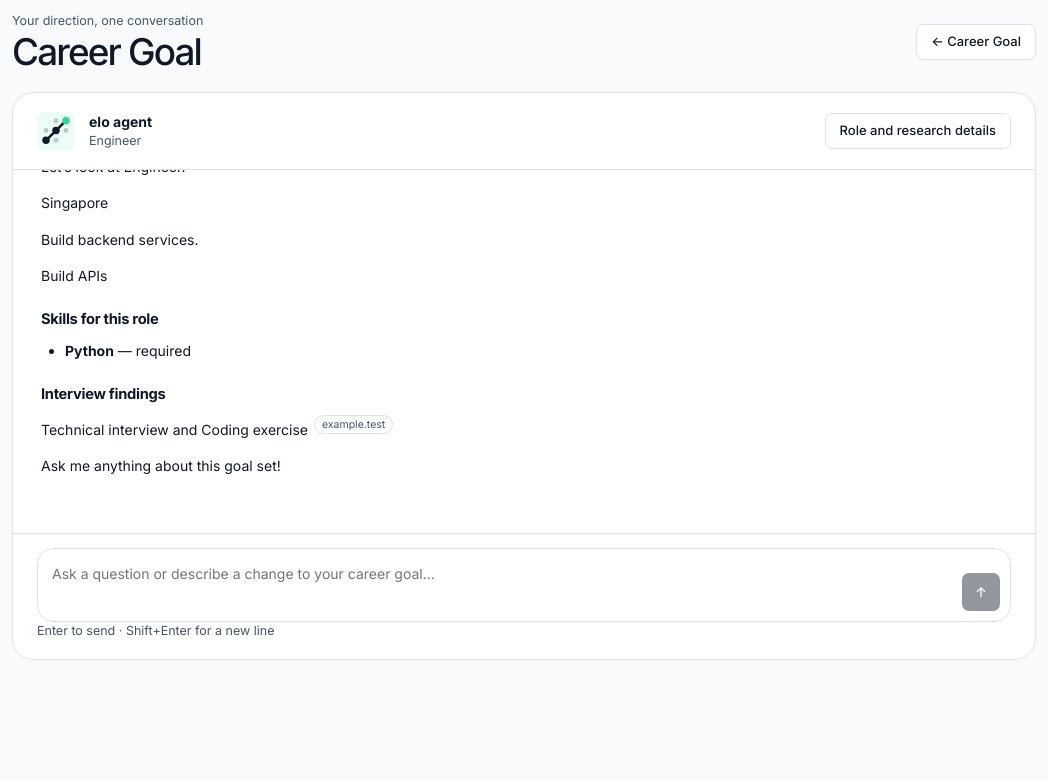
Test: single career conversation › edits the career goal through guided chat and refreshes the saved summary without an edit form
(page scrolled)
Type "Change my goal" into the text box named "Message elo" at (500, 585), box [48, 558, 952, 611]
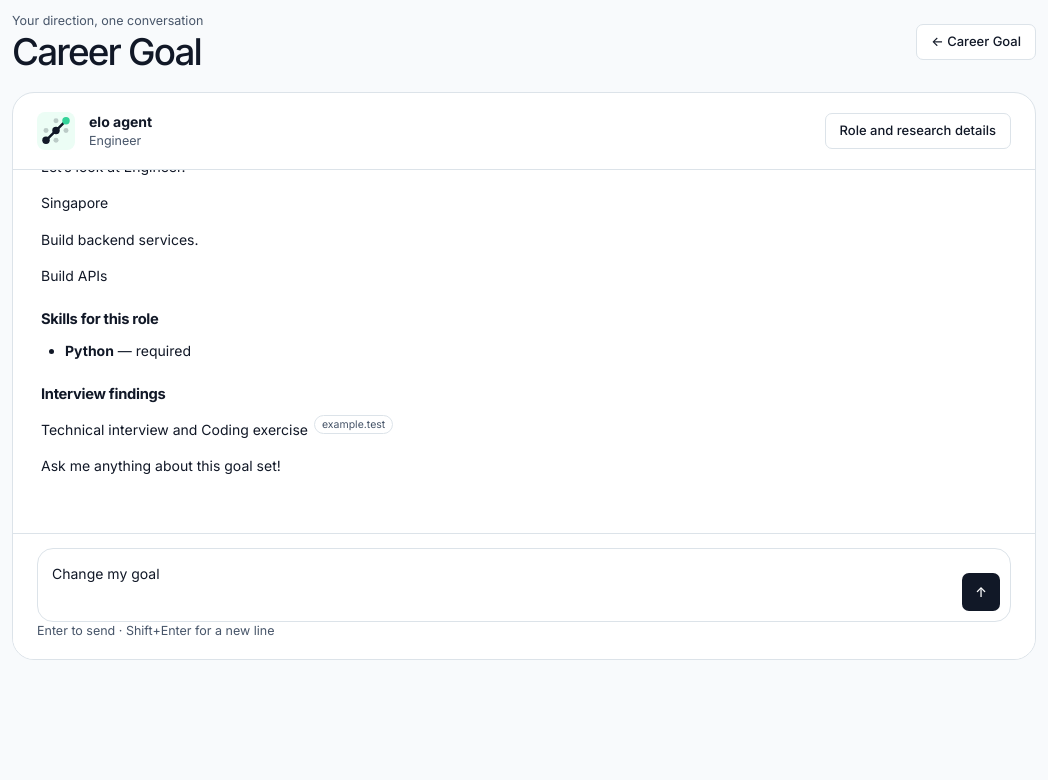
Click the button named "Send message" at (981, 592), box [962, 573, 1000, 611]
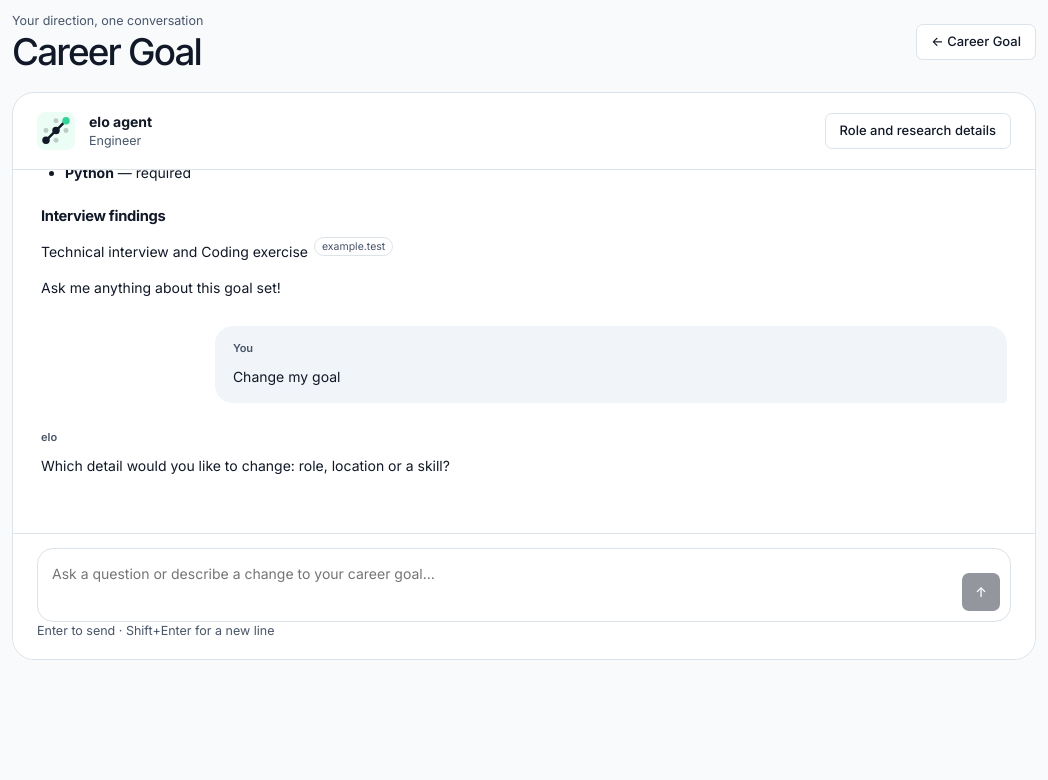
Result: the text "Which detail would you like to change: role, location or a skill?" is shown at [41, 457, 450, 474]
Type "Change the location to London" into the text box named "Message elo" at (500, 585), box [48, 558, 952, 611]
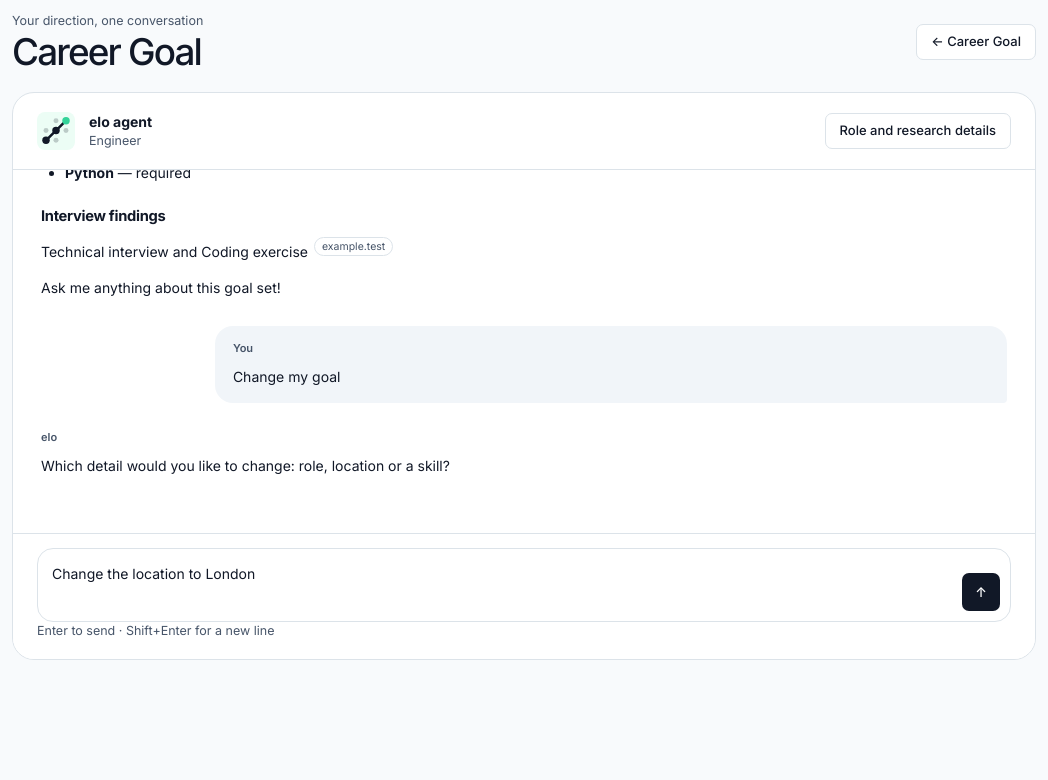
Click the button named "Send message" at (981, 592), box [962, 573, 1000, 611]
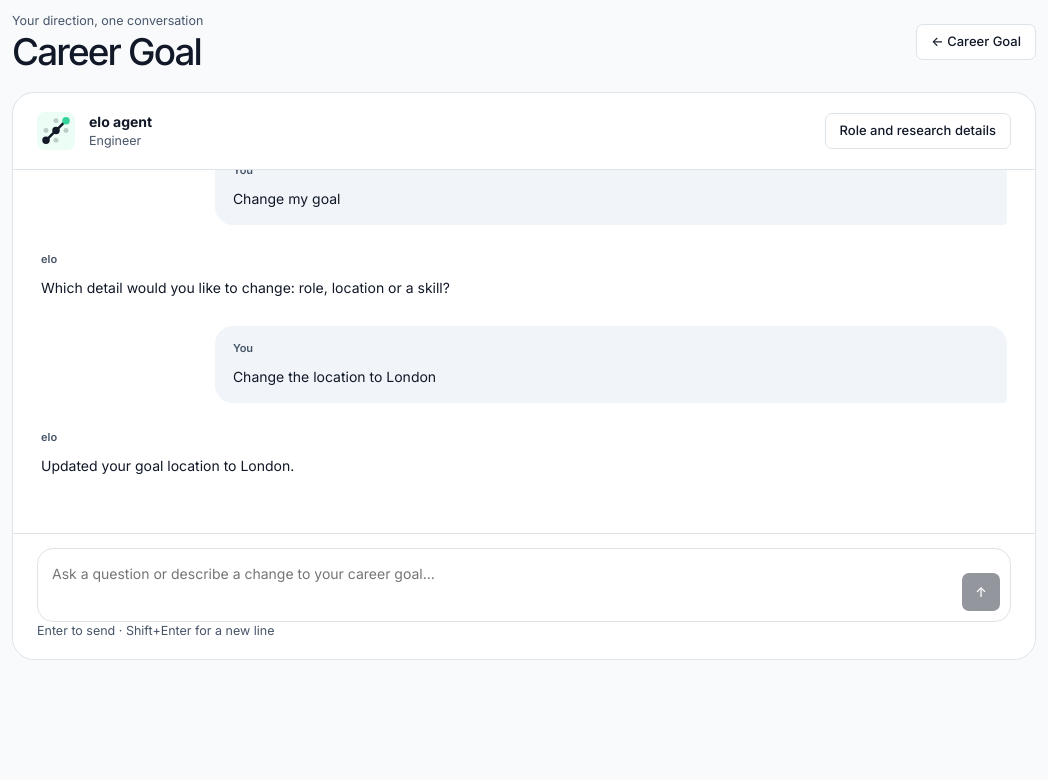
Result: the text "Updated your goal location to London." is shown at [41, 457, 294, 474]
